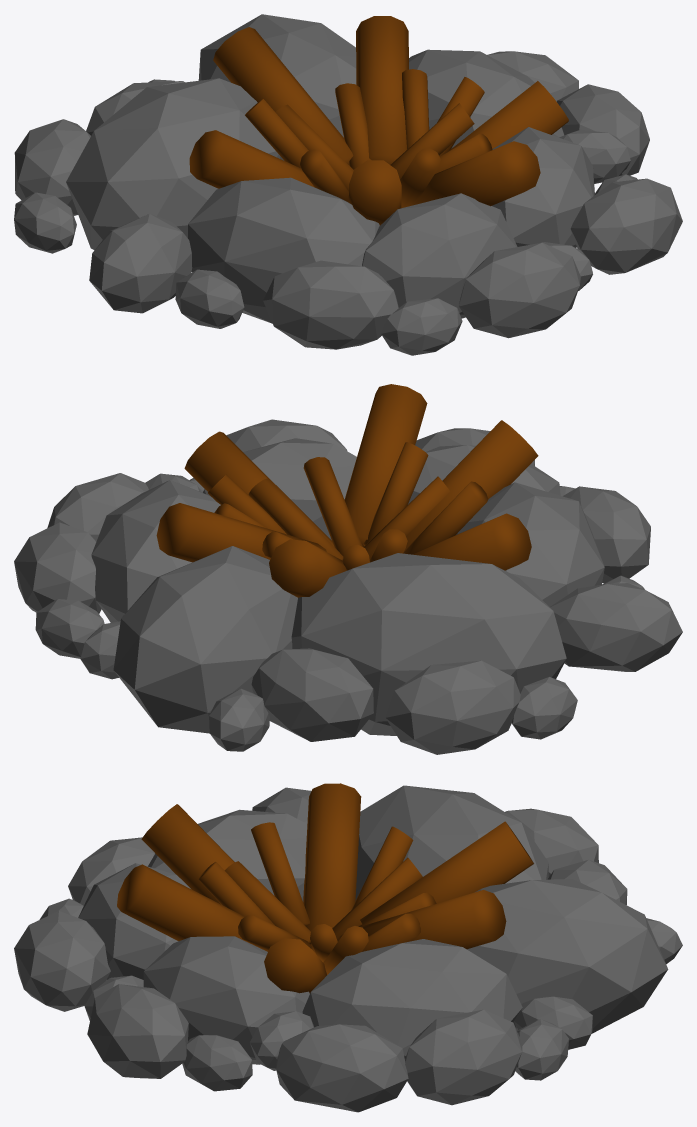
The model's file is campfire.fbx.
3 views of the same model, one above another, from view 1: azimuth 30°, elevation 25°; view 2: azimuth 150°, elevation 25°; view 3: azimuth 270°, elevation 25° (orthographic). The views are drawn at different scales.
Visible parts, largest first — view 1: Camp_fire_stones, Fire_Wood; view 2: Camp_fire_stones, Fire_Wood; view 3: Camp_fire_stones, Fire_Wood.
Boxes of the visible parts, bbox=[...] form: Camp_fire_stones: bbox=[14, 14, 682, 355]; Fire_Wood: bbox=[189, 16, 568, 225]; Camp_fire_stones: bbox=[14, 419, 682, 754]; Fire_Wood: bbox=[156, 384, 538, 597]; Camp_fire_stones: bbox=[14, 785, 682, 1112]; Fire_Wood: bbox=[117, 783, 533, 993].
Size of the model in its own units: 86.32 by 26.62 by 87.88.
